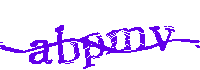a: (29, 39, 52, 66)
b: (54, 26, 79, 65)
m: (106, 27, 147, 54)
p: (81, 32, 105, 70)
v: (149, 24, 175, 53)
